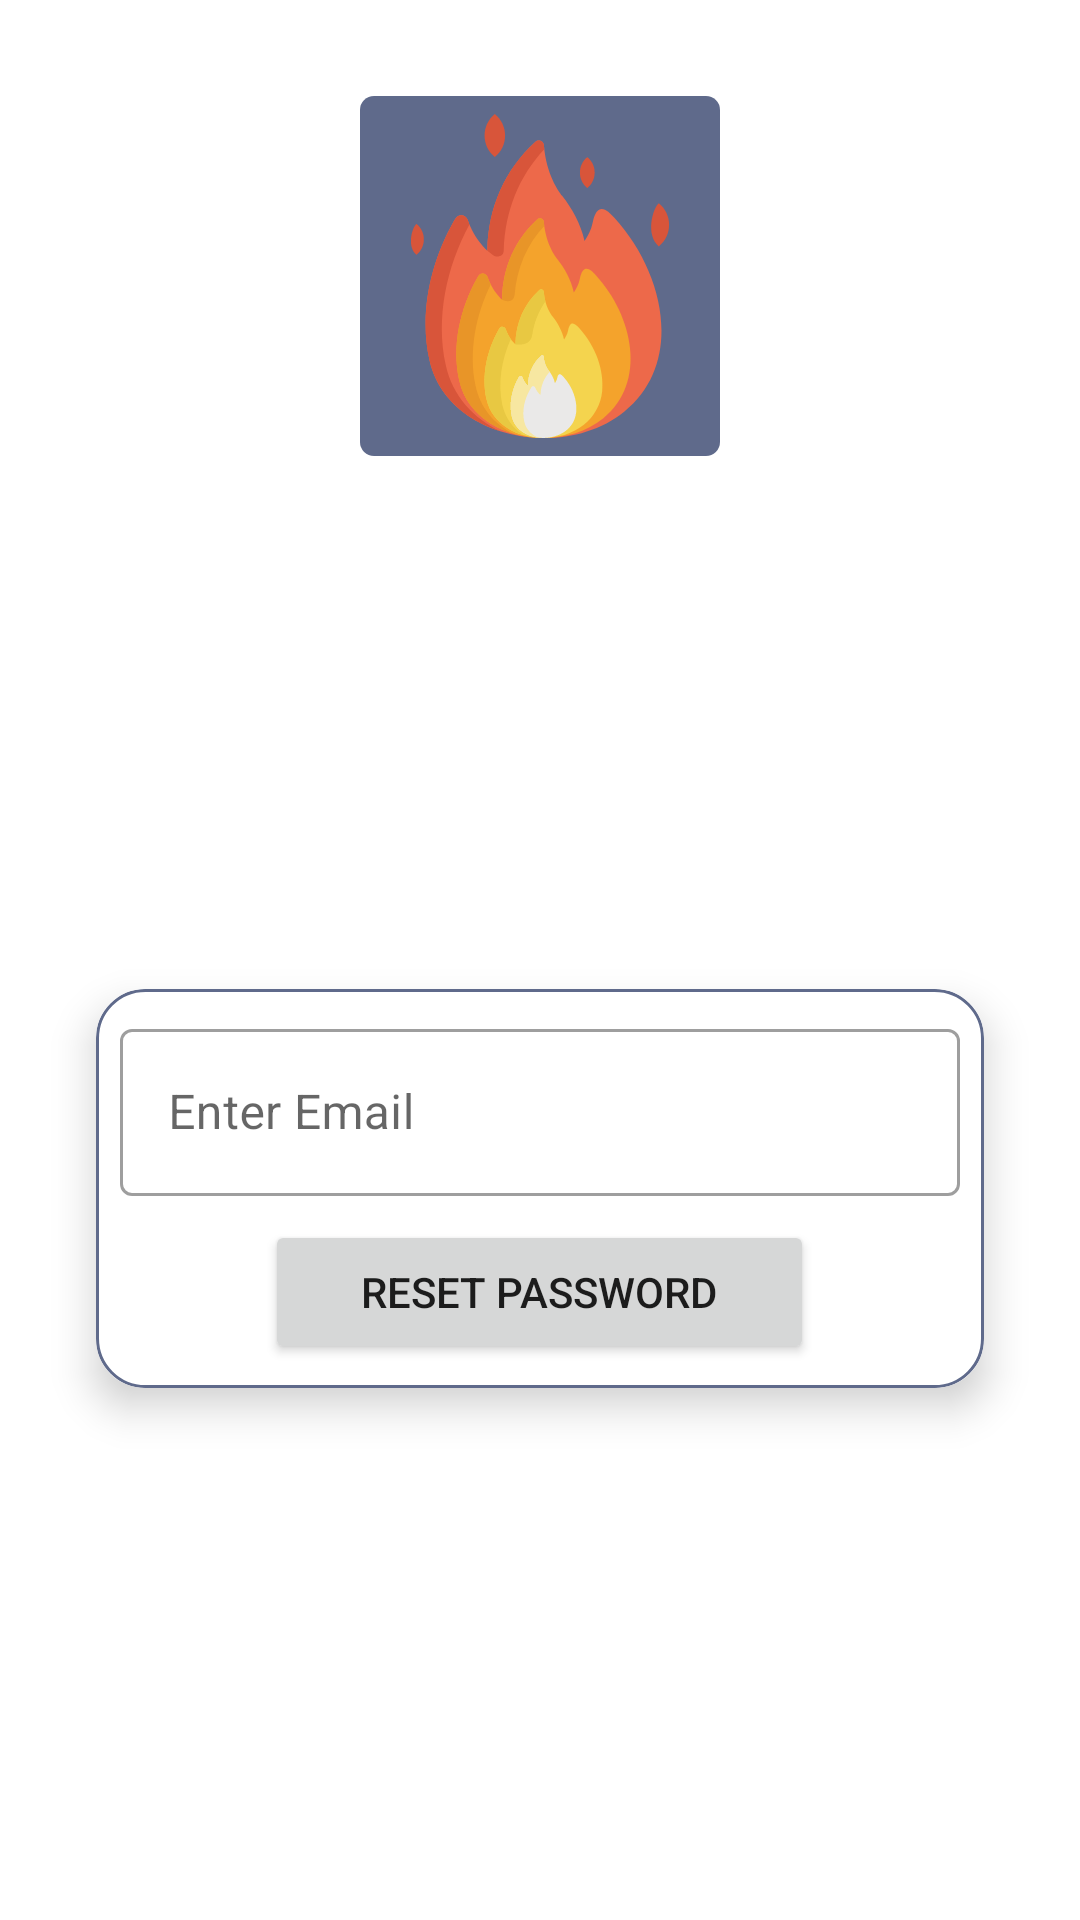

Point at icon controls on the screen. Image size 1080×1920, points as (x=x, y=y).
fire login activity: (x=540, y=276)
